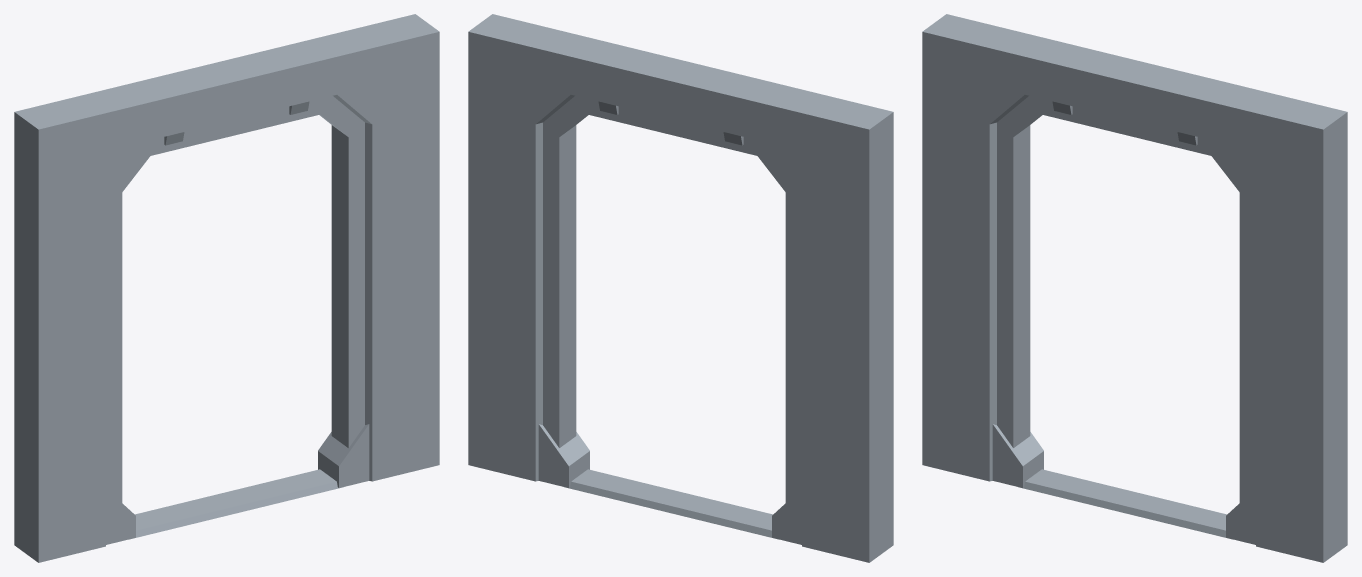
The model's file is Door_Frame_SquareTall.gltf.
The picture shows the model from 3 angles, left to right: view 1: azimuth 30°, elevation 25°; view 2: azimuth 150°, elevation 25°; view 3: azimuth 330°, elevation 25°; orthographic projection.
Parts seen in each view (by area): view 1: Door_Frame_SquareTall; view 2: Door_Frame_SquareTall; view 3: Door_Frame_SquareTall.
Part boxes in pixels (x1,y1,x2,y2): Door_Frame_SquareTall: (14, 14, 439, 562); Door_Frame_SquareTall: (468, 14, 893, 562); Door_Frame_SquareTall: (922, 14, 1347, 562).
Bounding box in the file's own units: 4.84 × 5.01 × 0.5068.
Materials: 1 (1 with a texture image).
